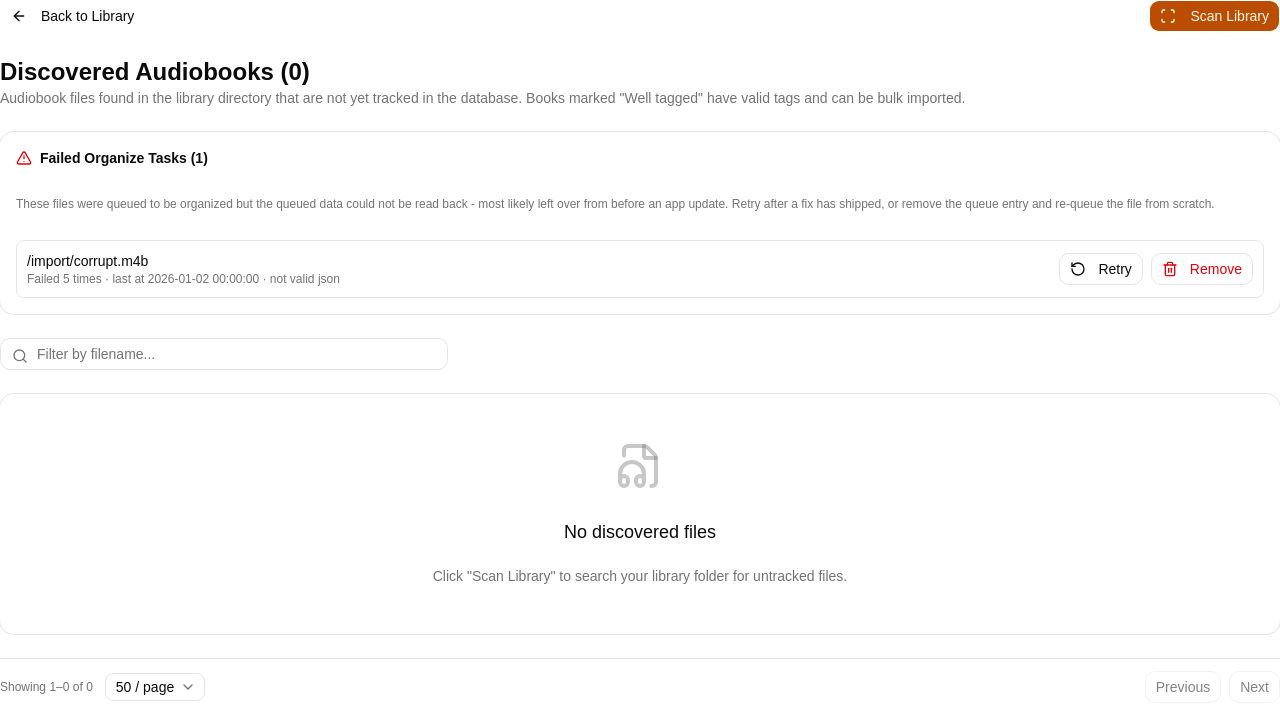
Test: DiscoveredAudiobooks › Failed Organize Tasks › removes a failed task after confirming in the dialog
What coordinates should you click on to do the following:
click the button "Remove"
I would click on:
 (1202, 269)
Its box is [1151, 253, 1253, 285].
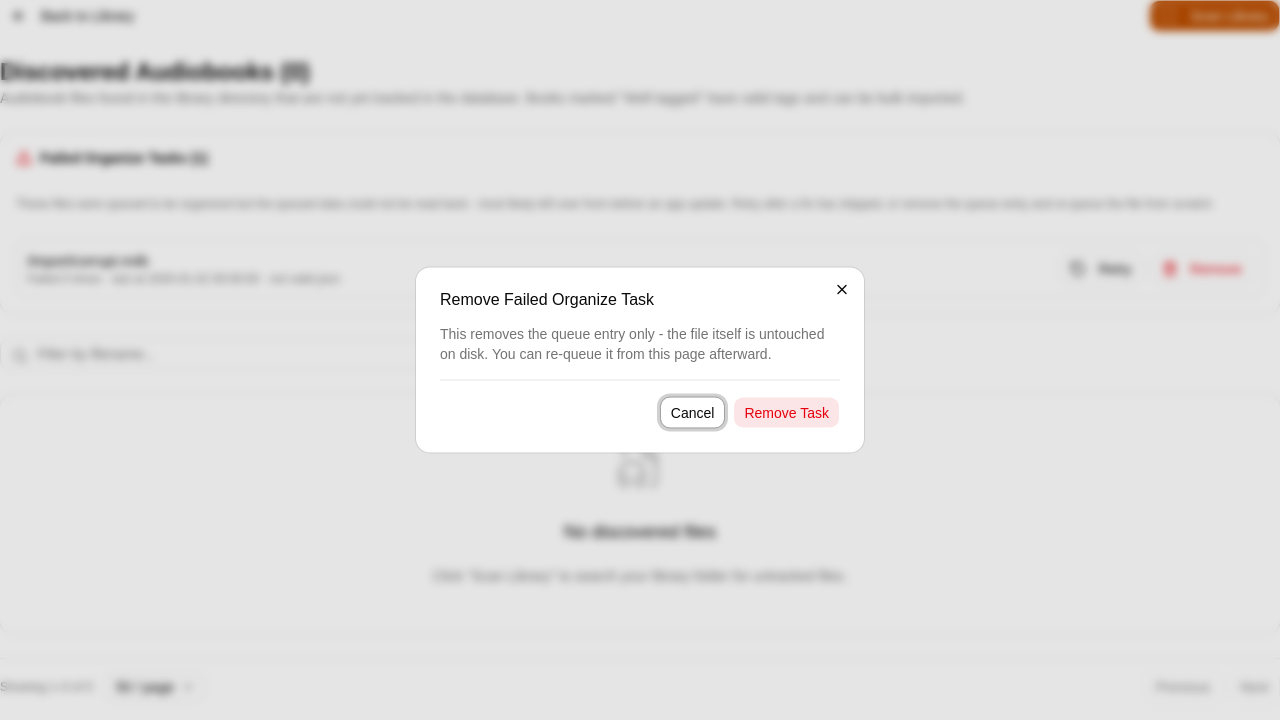
Expected: the heading "Remove Failed Organize Task" is shown, [440, 290, 654, 308]
What coordinates should you click on to do the following:
click the button "Remove Task"
I would click on:
 (787, 412)
Its box is [733, 396, 840, 428].
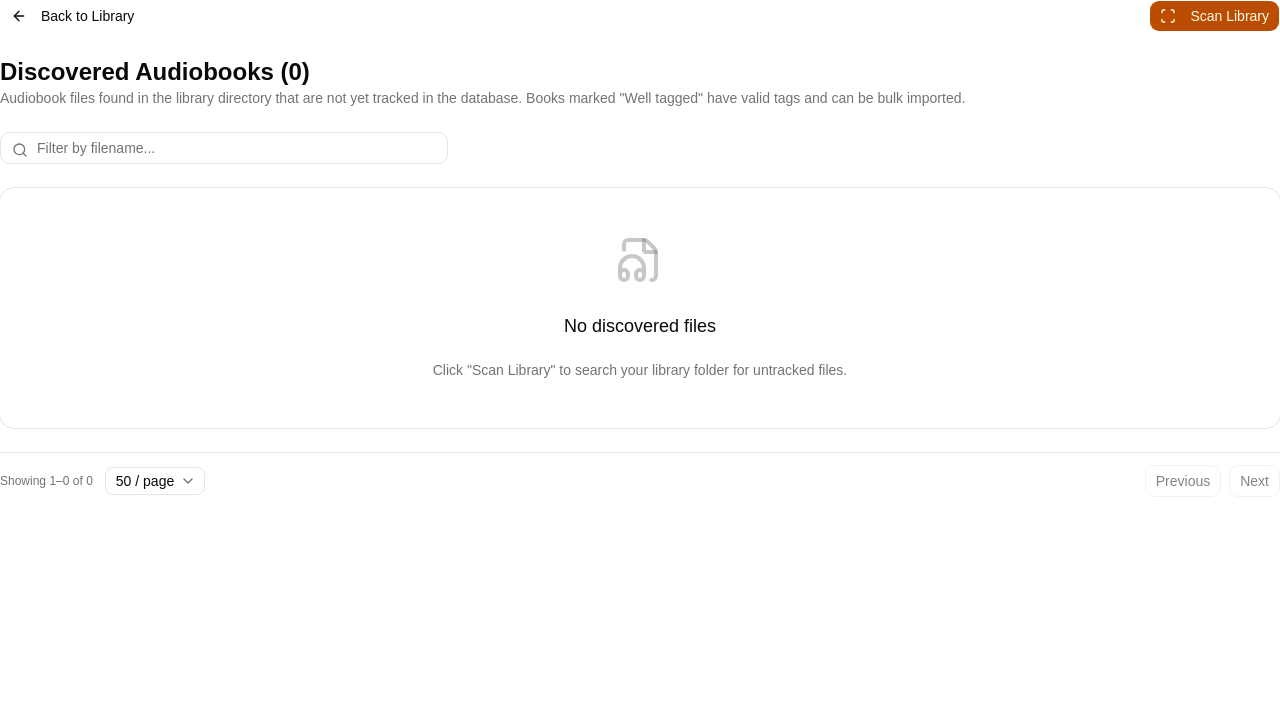
Expected: the heading "Remove Failed Organize Task" is gone
